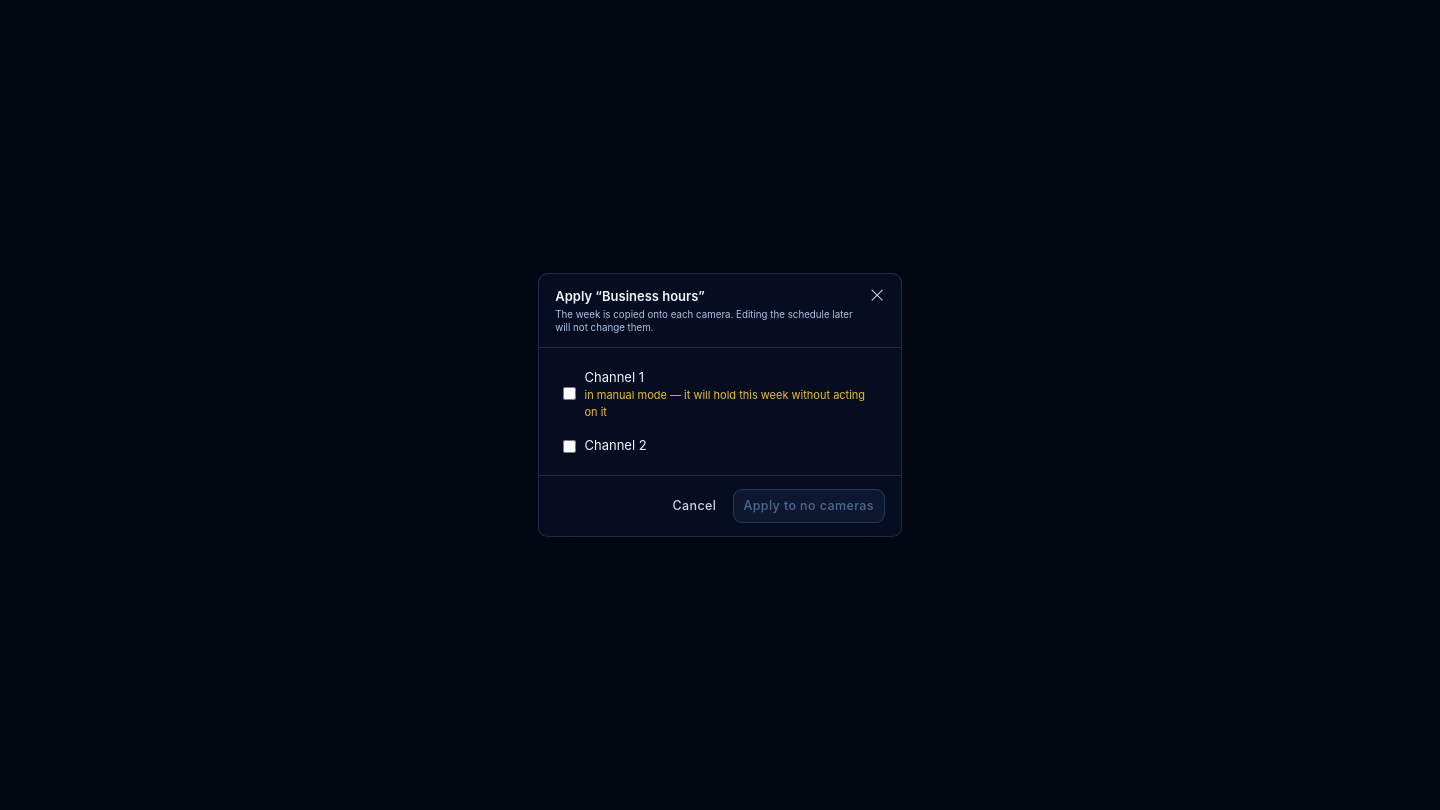
it: after the fan-out › shows the recorder's outcome for each camera
Check: the text "Channel 1" is shown, box [584,369,644,385]
Click the 1st checkbox at (570, 394), box [563,387,576,400]
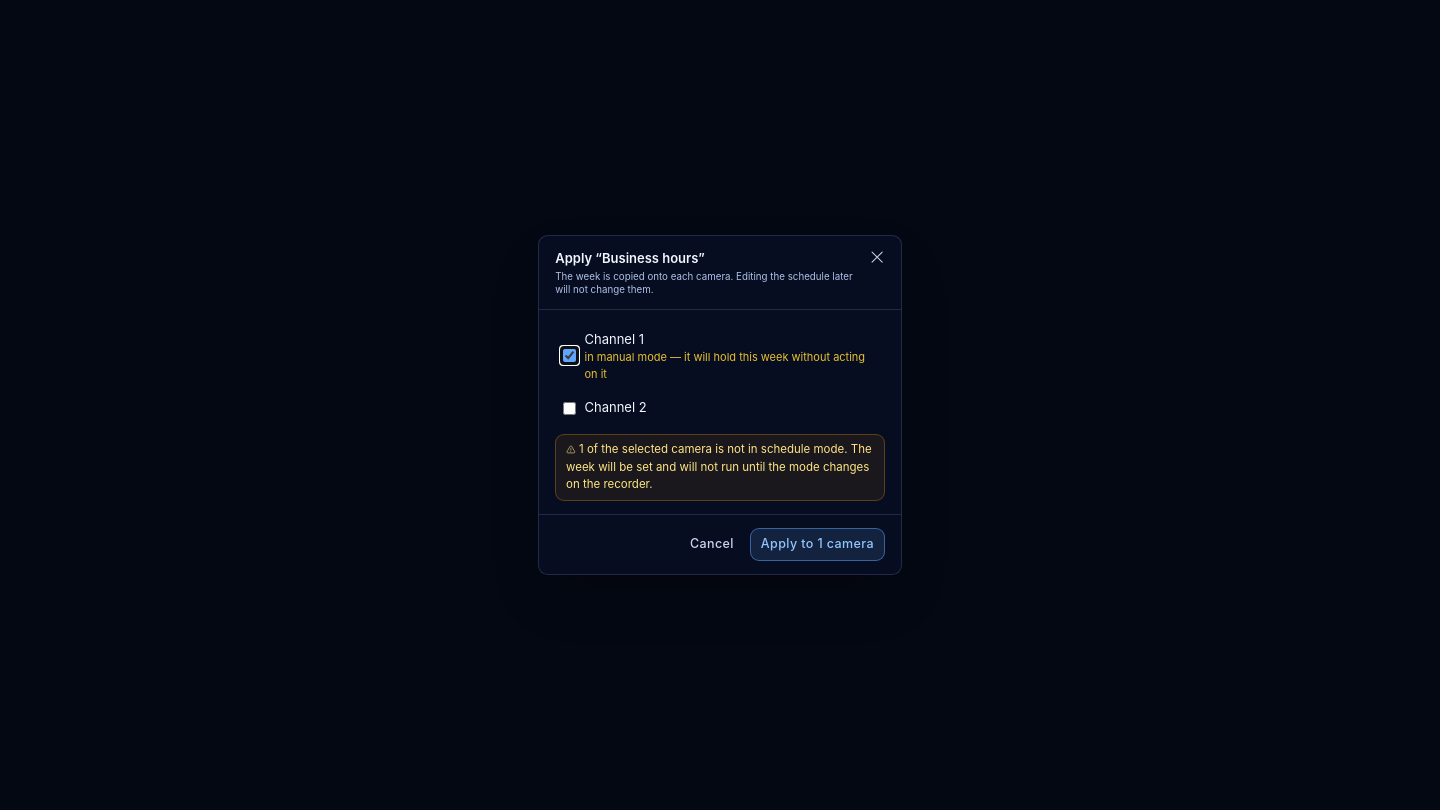
Click the checkbox labelled "Channel 2" at (570, 408), box [563,401,576,414]
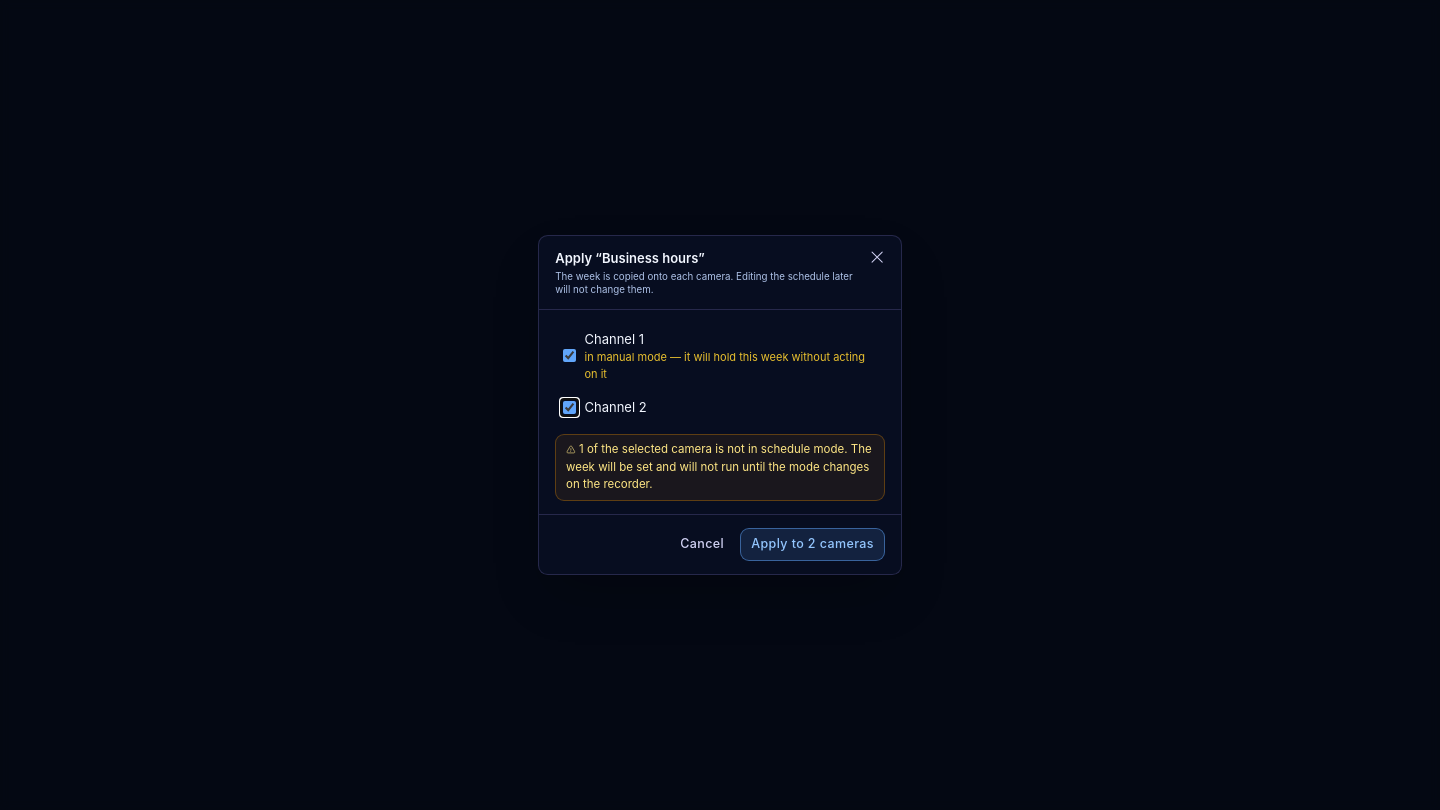
Click the button "Apply to 2 cameras" at (813, 544), box [740,528,885,561]
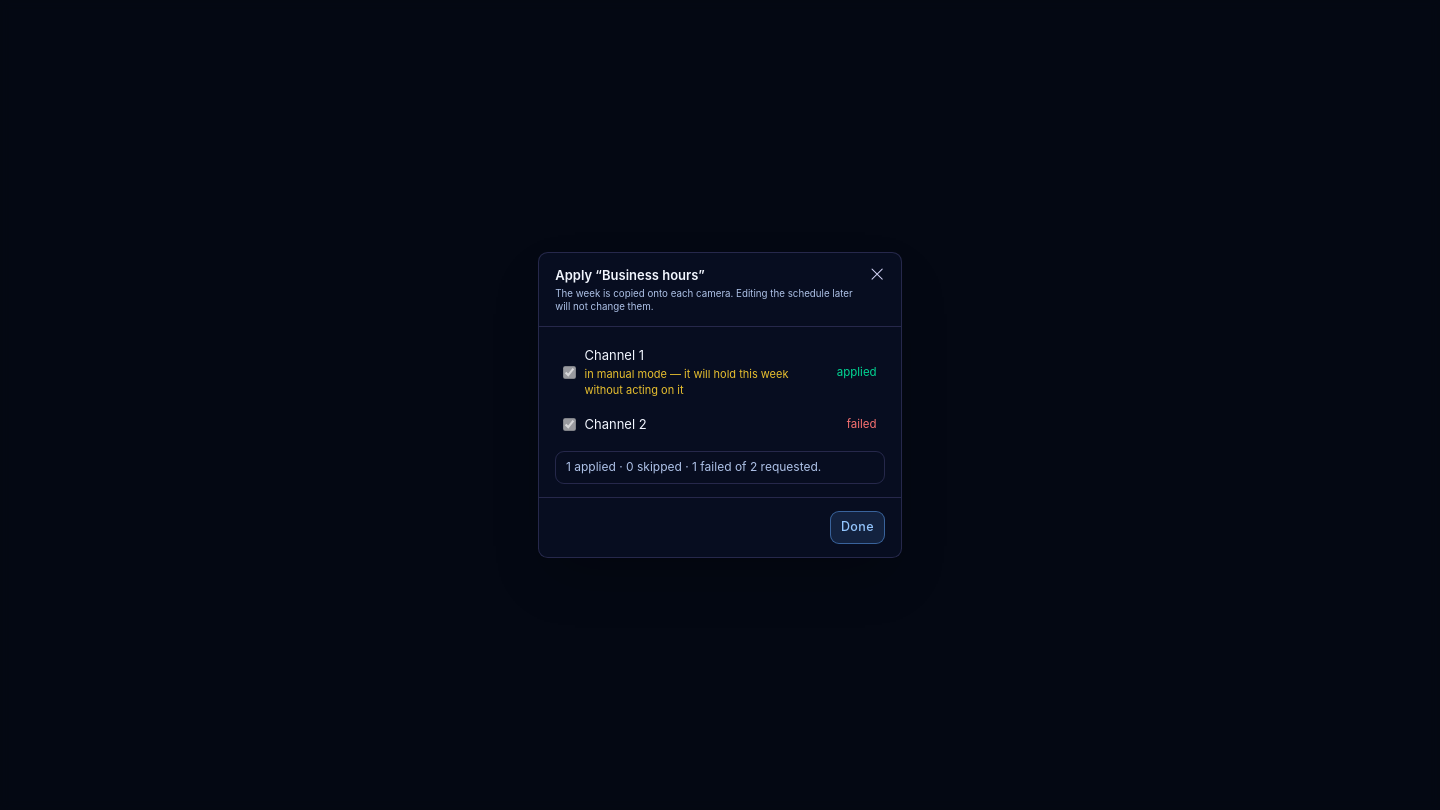
Check: the text "applied" is shown, box [837,364,877,381]
Check: the text "failed" is shown, box [847,416,877,433]
Check: the text "1 applied · 0 skipped · 1 failed of 2 requested." is shown, box [555,451,885,484]
